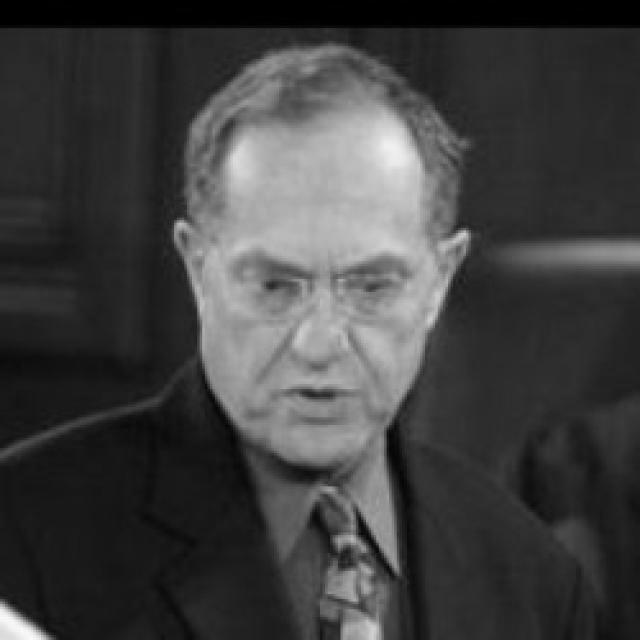real: (198, 105, 432, 474), (226, 255, 409, 323)
